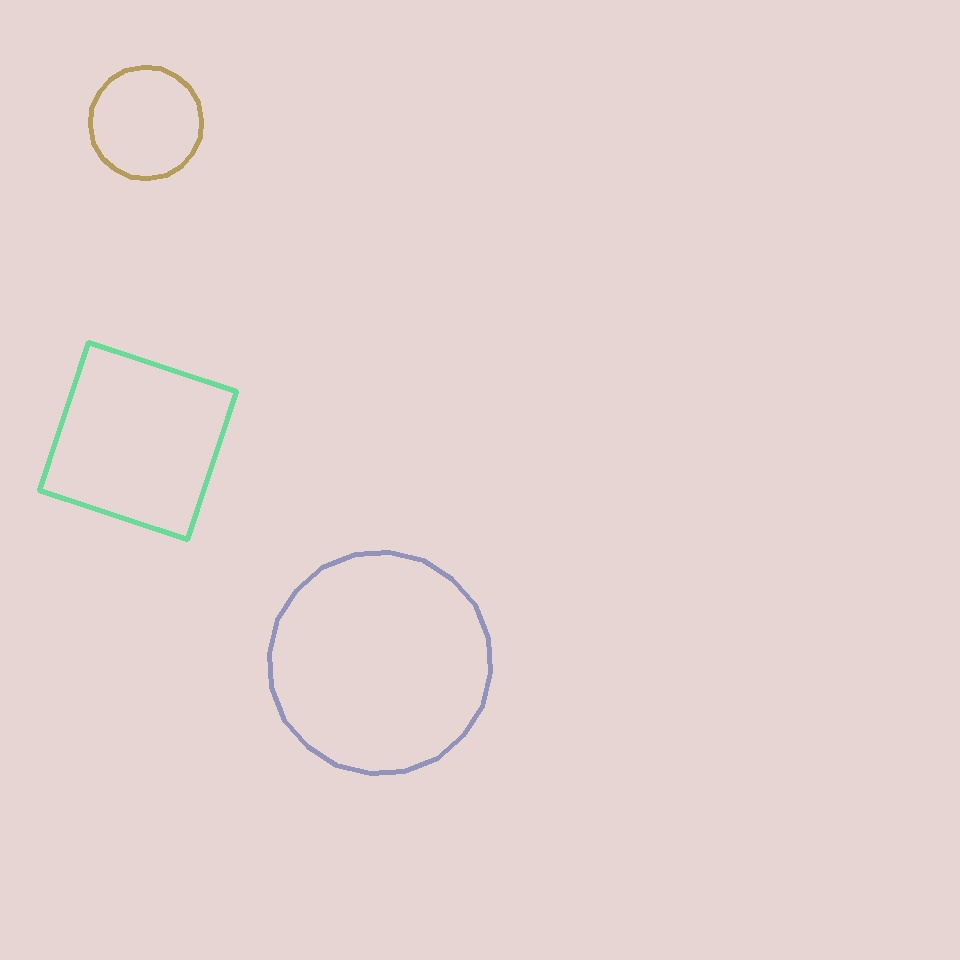square: (39, 342, 236, 540)
triangle: (270, 552, 490, 774), (90, 67, 202, 178)
